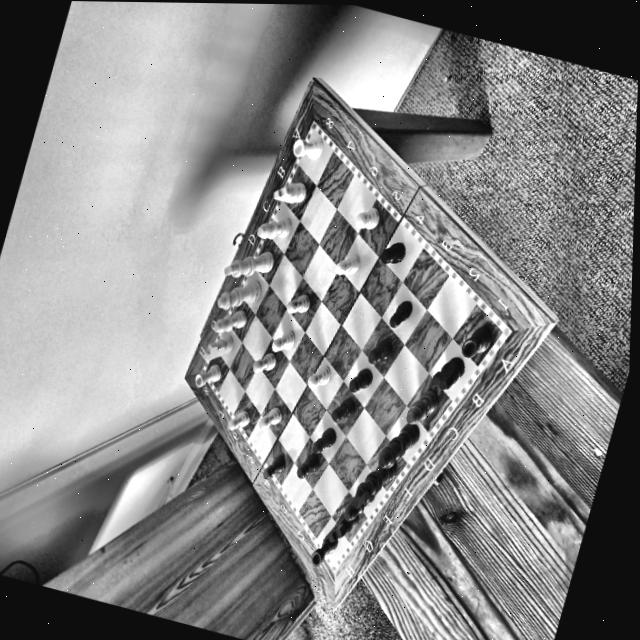black-bishop: (397, 380, 447, 430), (337, 486, 377, 525)
black-king: (344, 450, 404, 515)
black-knight: (322, 501, 362, 548), (428, 352, 468, 394)
black-pawn: (384, 292, 420, 335), (288, 447, 327, 485), (257, 448, 292, 486), (364, 331, 399, 367), (326, 390, 360, 427), (309, 421, 344, 456), (376, 238, 412, 270), (344, 363, 378, 396)
black-queen: (375, 412, 426, 475)
black-rook: (454, 317, 499, 364), (305, 531, 343, 569)
white-bishop: (210, 302, 253, 340), (252, 209, 297, 245)
white-king: (219, 240, 283, 289)
white-knight: (266, 176, 315, 214), (197, 329, 239, 368)
white-pawn: (252, 399, 288, 438), (349, 200, 387, 236), (330, 247, 366, 281), (268, 325, 302, 357), (250, 348, 284, 375), (285, 288, 315, 318), (223, 406, 254, 435), (305, 360, 333, 392)
white-queen: (213, 270, 266, 319)
white-rook: (283, 124, 333, 169), (191, 360, 228, 392)
